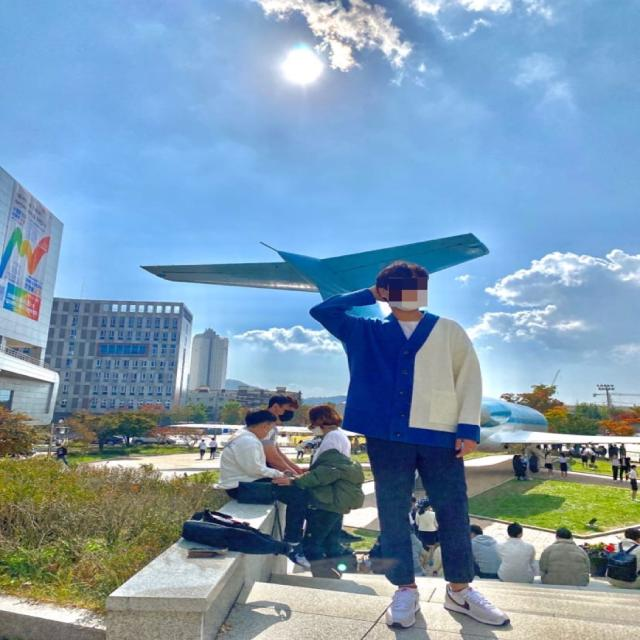cardigan: (309, 289, 482, 449)
denimpants: (363, 436, 482, 586)
